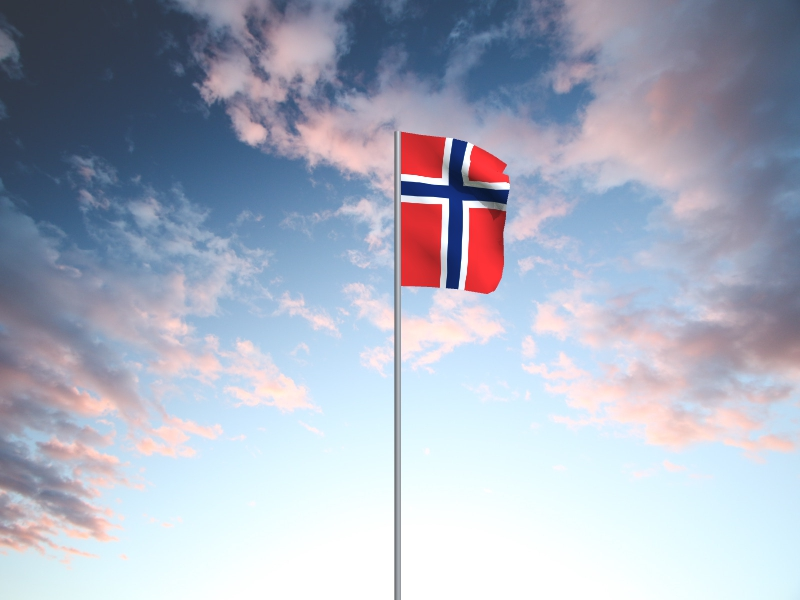no: (402, 133, 511, 296)
